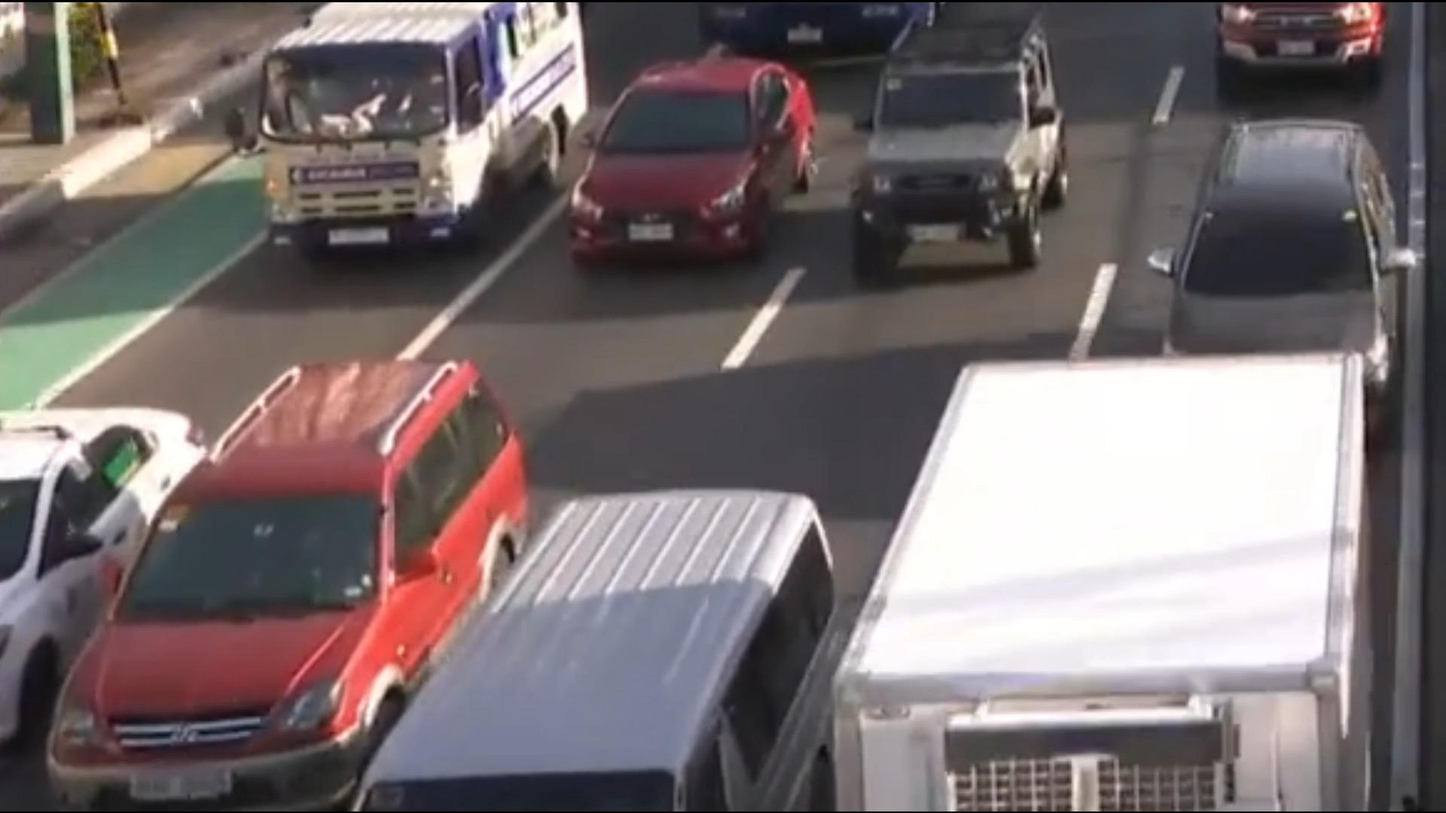SUV: (32, 336, 539, 813), (1140, 105, 1425, 437), (837, 19, 1075, 309), (1209, 0, 1386, 94)
Sedan: (2, 381, 216, 770), (565, 52, 827, 279)
Truck: (851, 351, 1446, 813), (220, 0, 599, 276)
Van: (347, 485, 855, 813)
